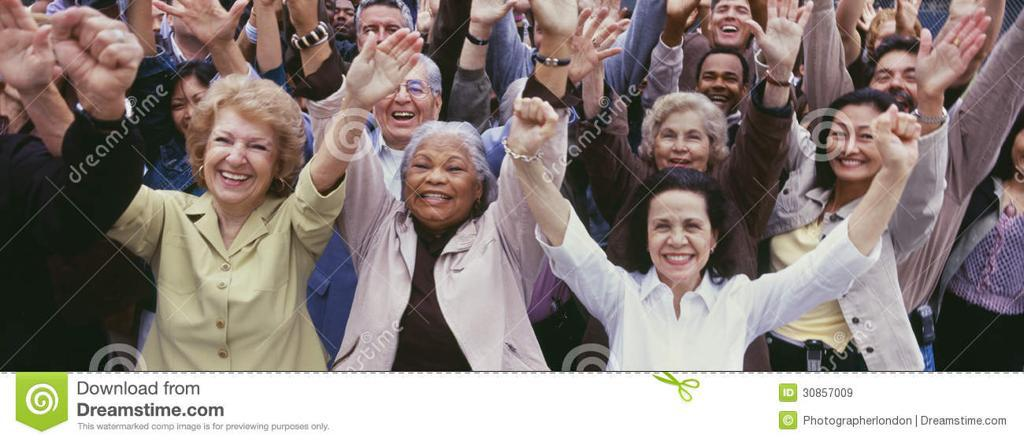face: (206, 112, 275, 205), (405, 135, 476, 223), (648, 191, 710, 282), (376, 63, 434, 140), (828, 106, 888, 179), (870, 52, 927, 120), (655, 112, 709, 183), (174, 77, 216, 142), (699, 54, 742, 116), (360, 8, 403, 62), (713, 1, 752, 46), (140, 2, 169, 45), (331, 2, 355, 37), (314, 1, 334, 30)
